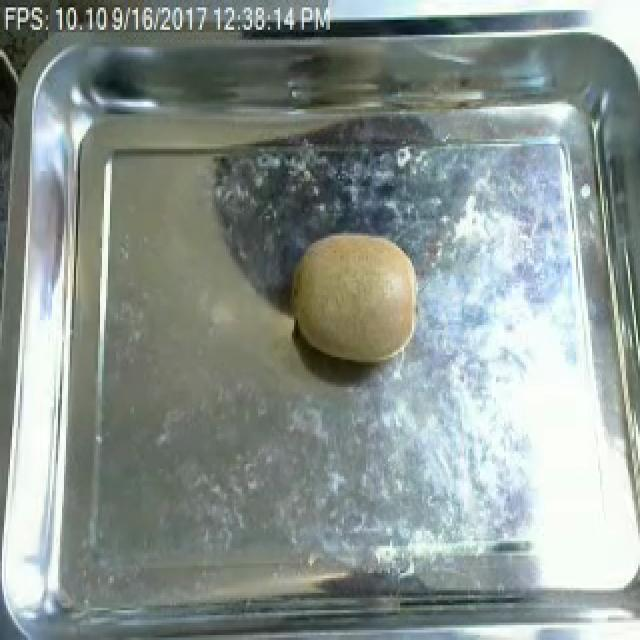Fruit: (282, 226, 426, 372)
